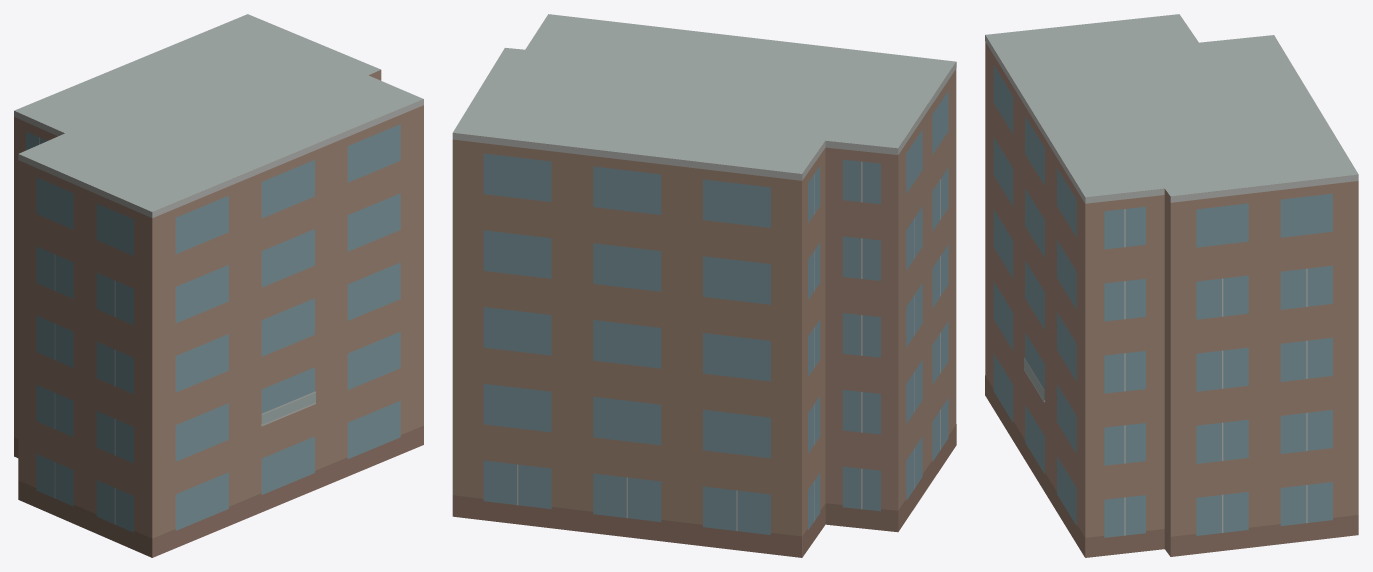
The model's file is survey-upis-32721794.glb.
3 renders of one model, left to right at view 1: azimuth 30°, elevation 25°; view 2: azimuth 150°, elevation 25°; view 3: azimuth 270°, elevation 25°, orthographic. The views are drawn at different scales.
Visible parts, largest first — view 1: survey-upis-32721794.tmp; view 2: survey-upis-32721794.tmp; view 3: survey-upis-32721794.tmp.
Part boxes in pixels (box(x1,y1,x2,y2)): survey-upis-32721794.tmp: box(14, 14, 423, 557); survey-upis-32721794.tmp: box(452, 14, 956, 557); survey-upis-32721794.tmp: box(985, 14, 1358, 557).
Size of the model in its own units: 15.06 by 13.8 by 12.97.
